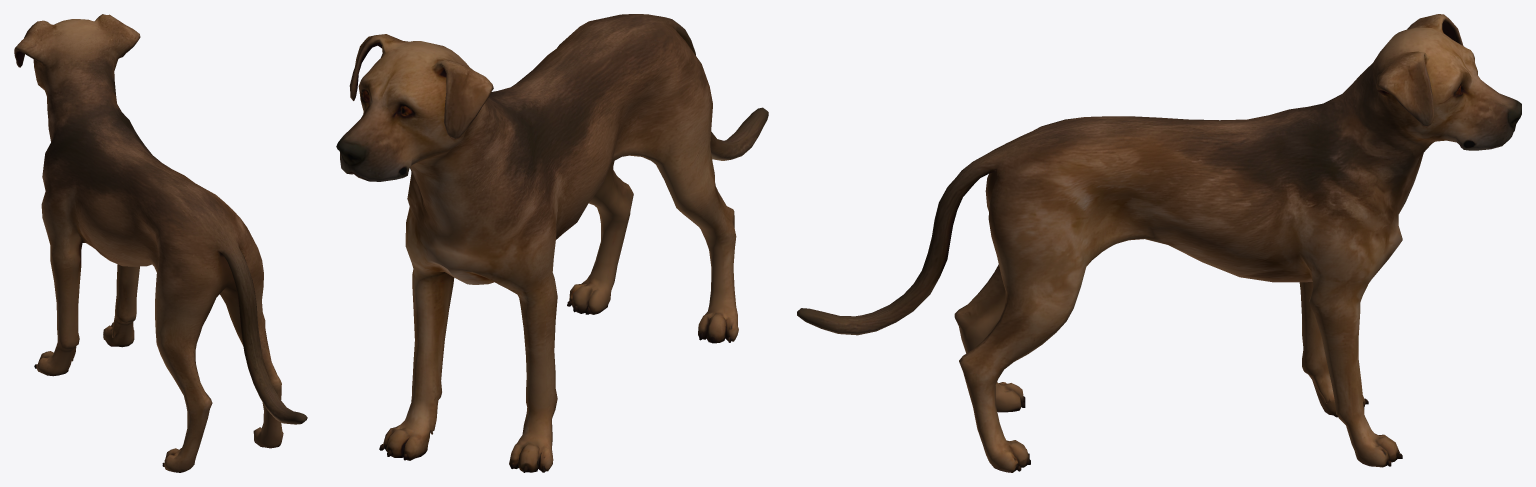
File: dog-brown.glb
3 renders of one model, left to right at view 1: azimuth 30°, elevation 25°; view 2: azimuth 150°, elevation 25°; view 3: azimuth 270°, elevation 25°, orthographic. The views are drawn at different scales.
Visible parts, largest first — view 1: tripo_node_92454a93-a959-48d6-8f93-6af44ac5650d; view 2: tripo_node_92454a93-a959-48d6-8f93-6af44ac5650d; view 3: tripo_node_92454a93-a959-48d6-8f93-6af44ac5650d.
Part boxes in pixels (x1,y1,x2,y2): tripo_node_92454a93-a959-48d6-8f93-6af44ac5650d: (14,14,307,472); tripo_node_92454a93-a959-48d6-8f93-6af44ac5650d: (336,14,768,472); tripo_node_92454a93-a959-48d6-8f93-6af44ac5650d: (797,14,1521,472).
Size of the model in its own units: 0.2857 by 0.7 by 1.11.
Materials: 1 (1 with a texture image).
